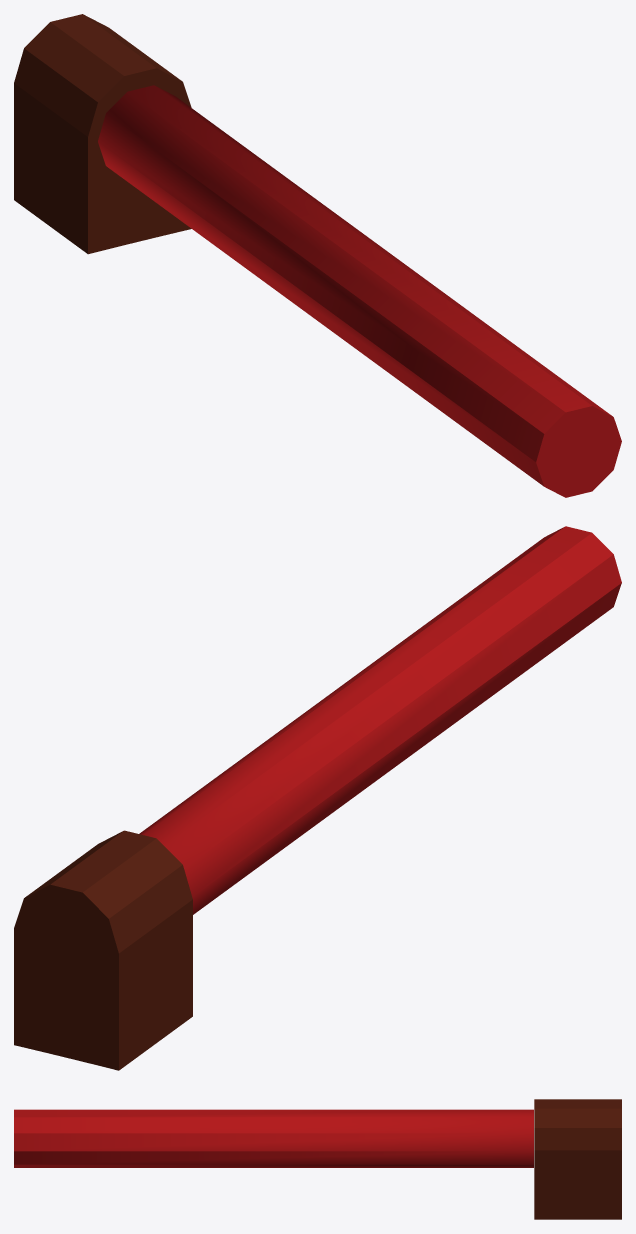
File: rotateObstacle.fbx
3 renders of one model, top to bottom at view 1: azimuth 30°, elevation 25°; view 2: azimuth 150°, elevation 25°; view 3: azimuth 270°, elevation 25°, orthographic. The views are drawn at different scales.
Parts seen in each view (by area): view 1: Cylinder.001, Cylinder; view 2: Cylinder.001, Cylinder; view 3: Cylinder.001, Cylinder.
Part boxes in pixels (box(x1,y1,x2,y2)): Cylinder.001: box(98, 85, 621, 497); Cylinder: box(14, 14, 191, 254); Cylinder.001: box(139, 526, 621, 914); Cylinder: box(14, 830, 192, 1070); Cylinder.001: box(14, 1109, 533, 1167); Cylinder: box(534, 1099, 621, 1219).
Bounding box in the file's own units: 138 × 212 × 1166.
